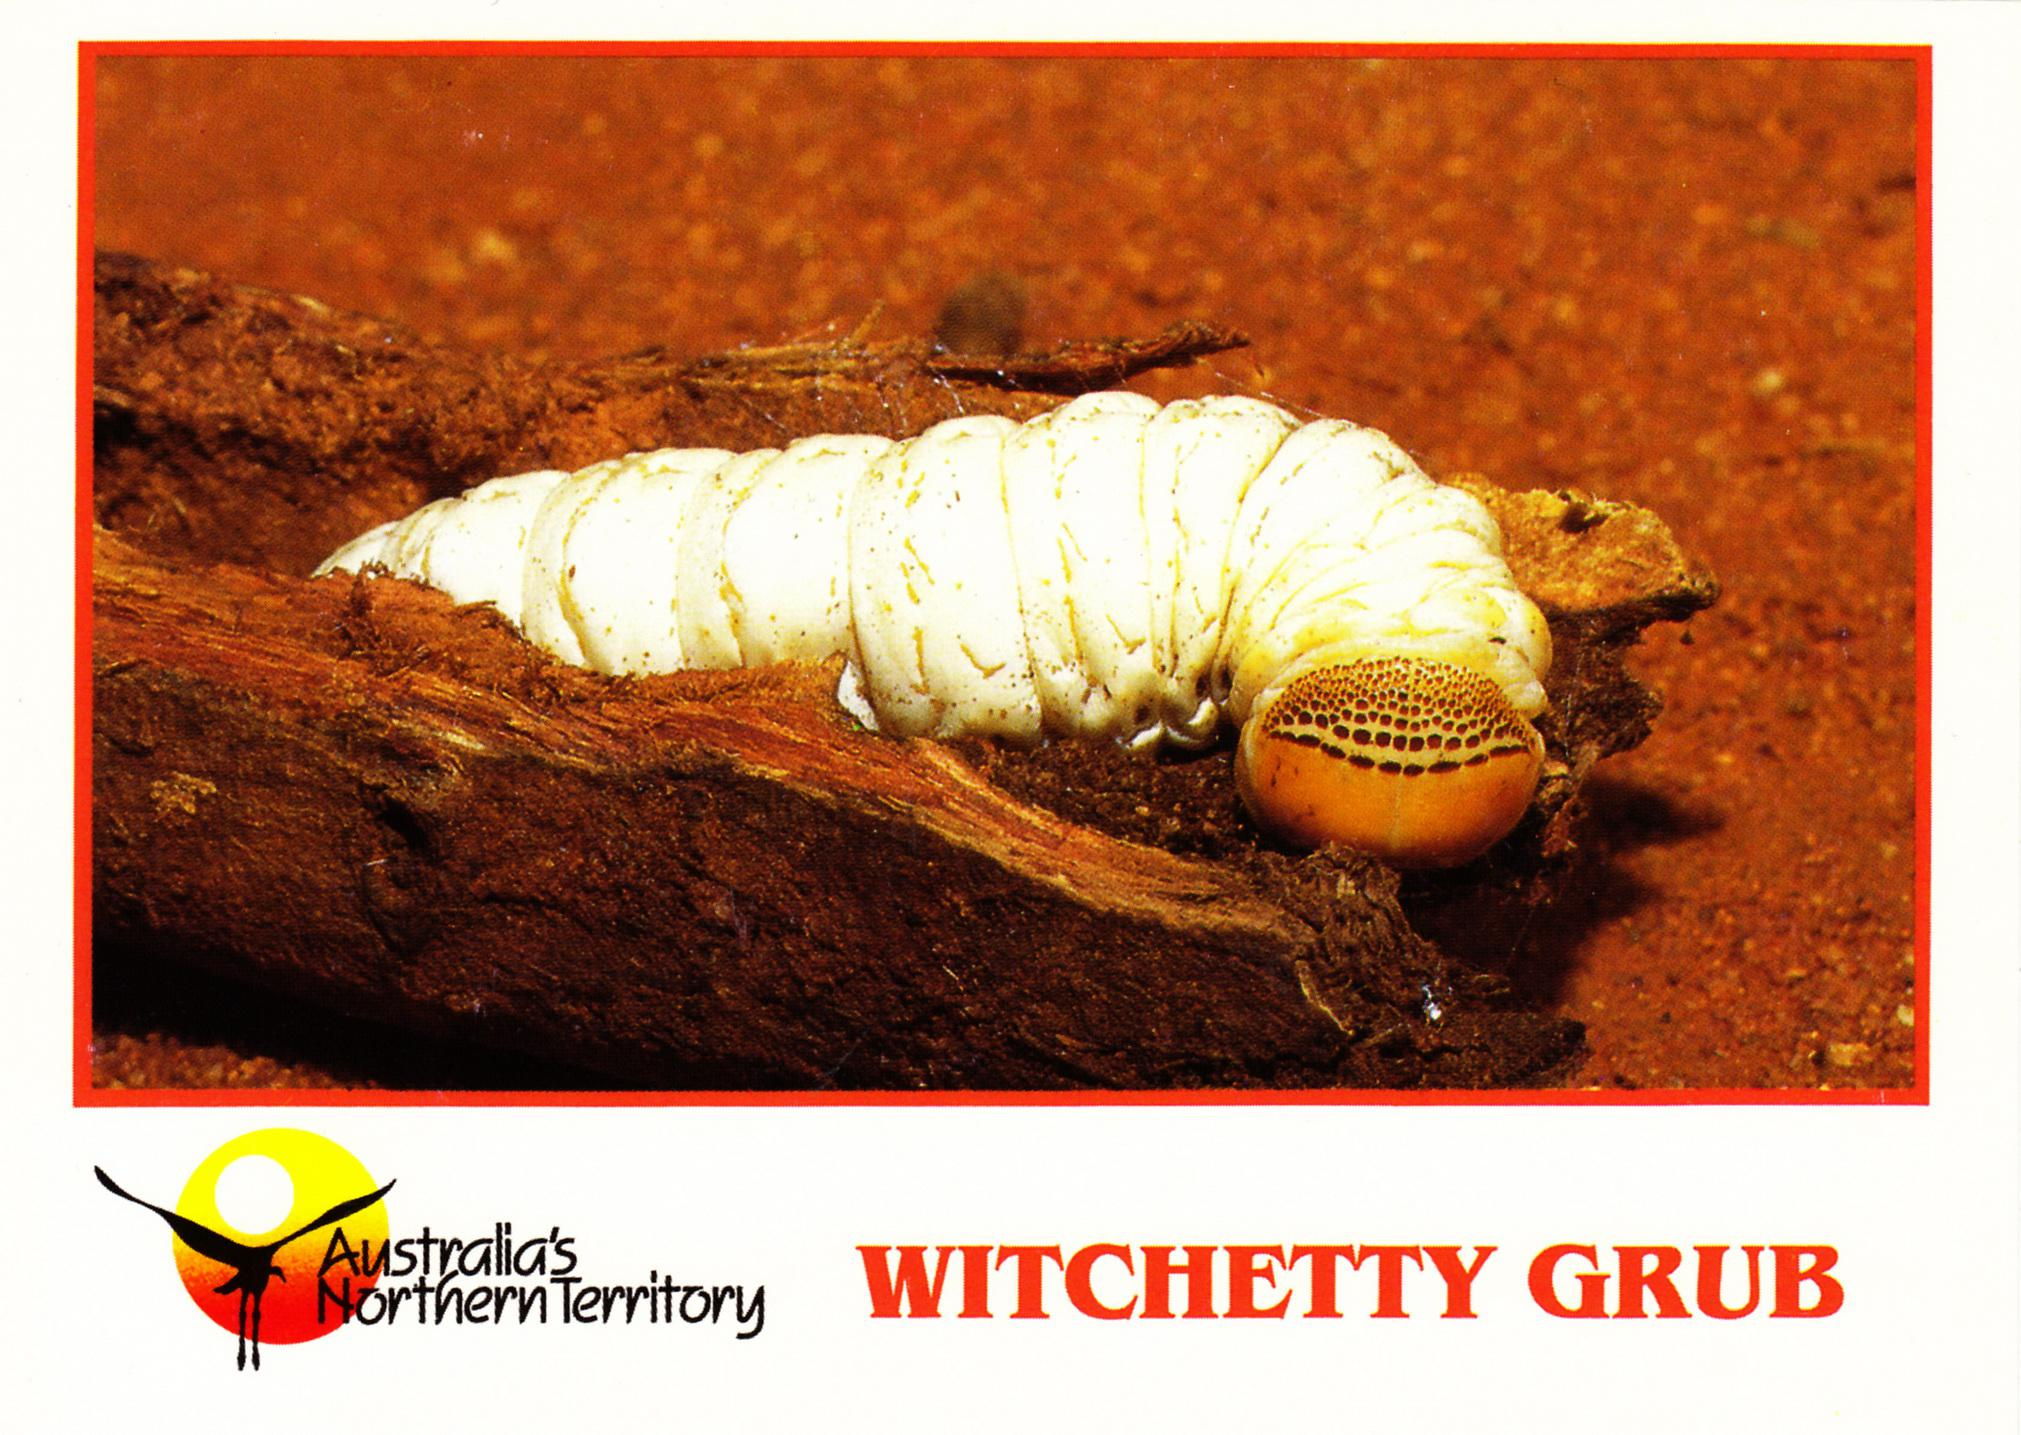grub: (295, 380, 1558, 885)
